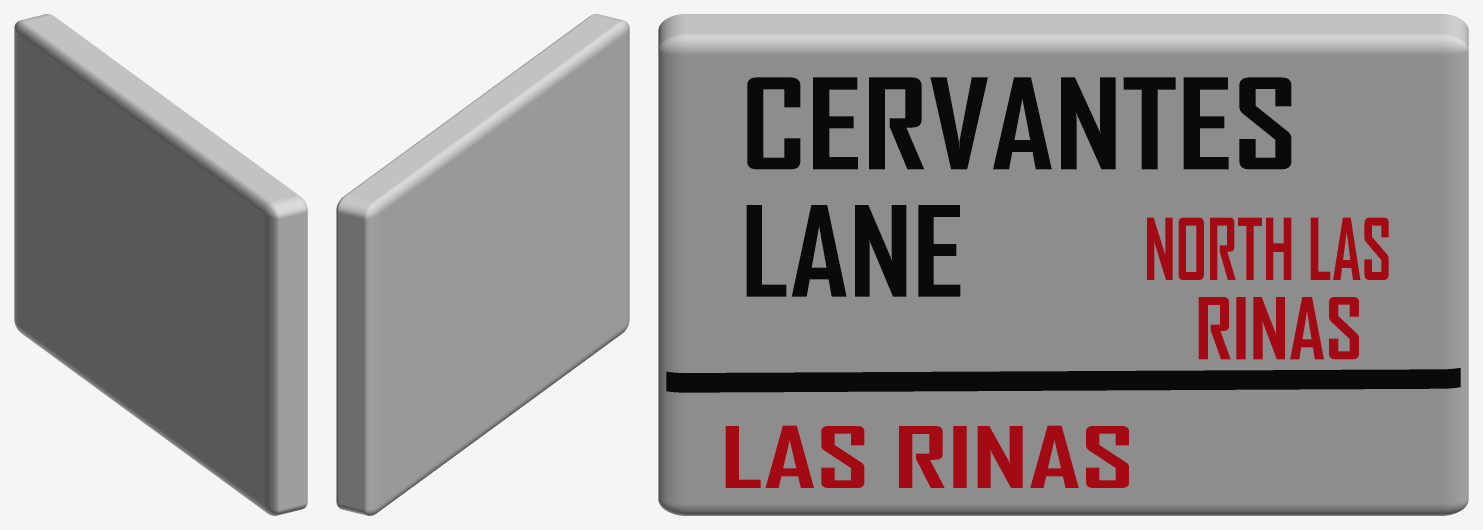
Rendered from uk_styled_street_sign_21.fbx.
The picture shows the model from 3 angles, left to right: view 1: azimuth 30°, elevation 25°; view 2: azimuth 150°, elevation 25°; view 3: azimuth 270°, elevation 25°; orthographic projection. The views are drawn at different scales.
Parts seen in each view (by area): view 1: Cube; view 2: Cube; view 3: Cube, Text, Text.002, Text.001, Text.003, Text.004.
Part boxes in pixels (x1,y1,x2,y2): Cube: (14,14,307,515); Cube: (336,14,629,515); Cube: (658,14,1468,515); Text: (747,77,1291,169); Text.002: (725,425,1128,487); Text.001: (746,205,960,296); Text.003: (1147,217,1388,279); Text.004: (1198,297,1358,359).
Size of the model in its own units: 1.63 by 11.91 by 18.18.
